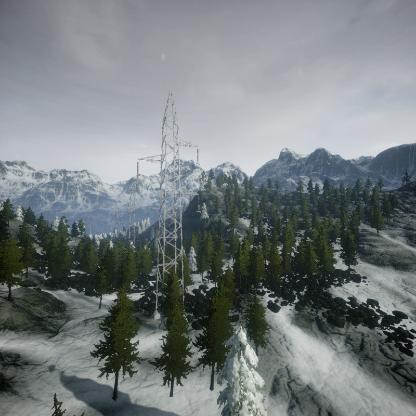tower: (134, 89, 203, 326)
